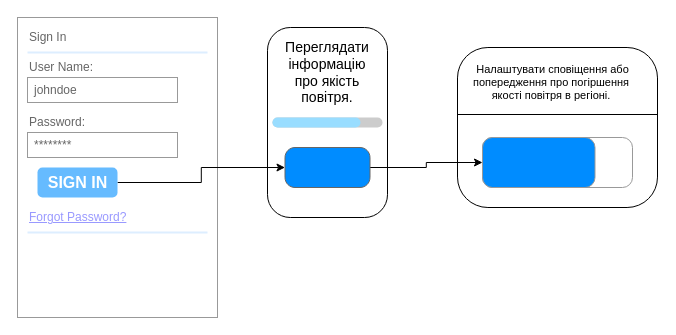
This 676x335 diagram has some shape labels left out. Each missing label, with the centre of its shape:
ON: (x=557, y=162)
Переглянути: (x=327, y=167)
